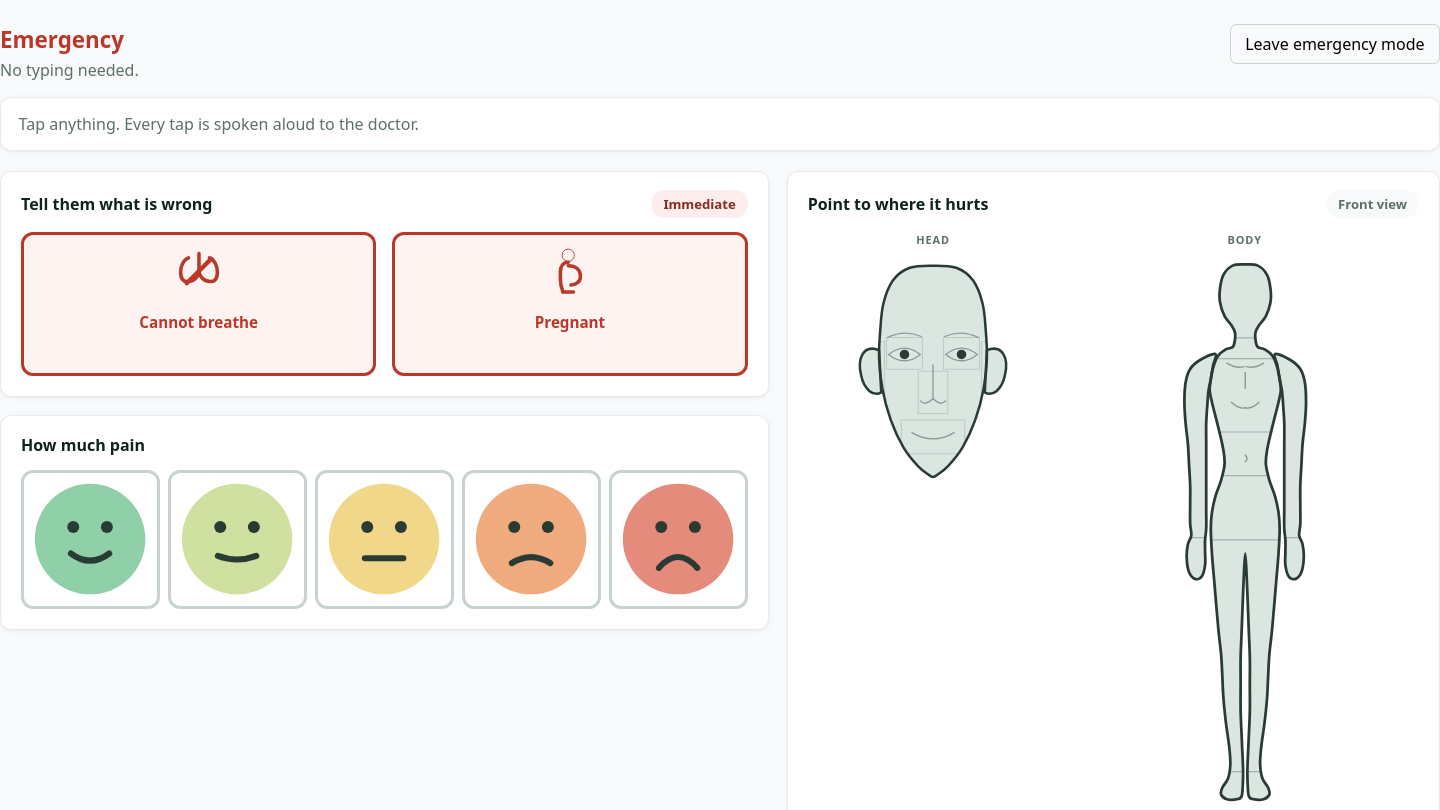
telling the patient they are being heard › puts what was said at the top, not below the fold
Click the button with test id "pain-level-4".
click(531, 539)  # box [462,470,601,609]
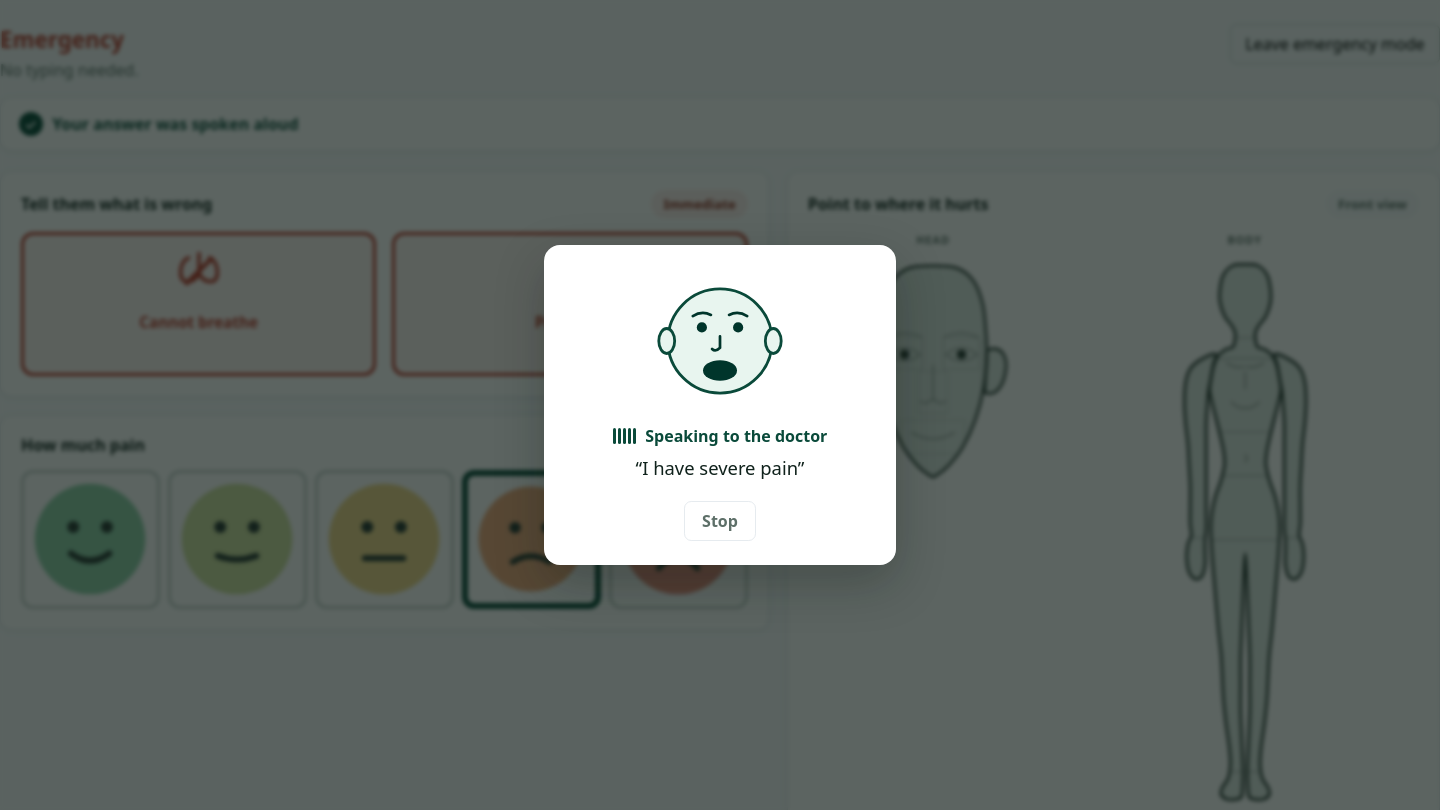
Expected: the element with test id "spoken-response" is shown, [19,112,298,136]
